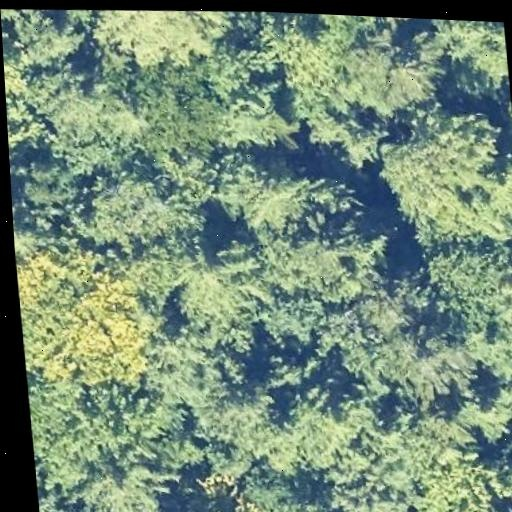tree-top: (26, 369, 200, 512), (363, 88, 512, 233), (242, 170, 393, 311), (14, 242, 161, 386), (154, 333, 305, 452), (214, 386, 368, 488), (101, 43, 241, 153), (322, 293, 448, 399), (405, 223, 512, 335), (157, 233, 269, 337), (336, 22, 443, 120), (84, 5, 233, 73), (17, 62, 124, 153), (68, 159, 174, 248), (396, 433, 512, 512), (253, 11, 349, 89), (328, 432, 421, 512), (413, 18, 510, 93), (228, 454, 335, 512)
